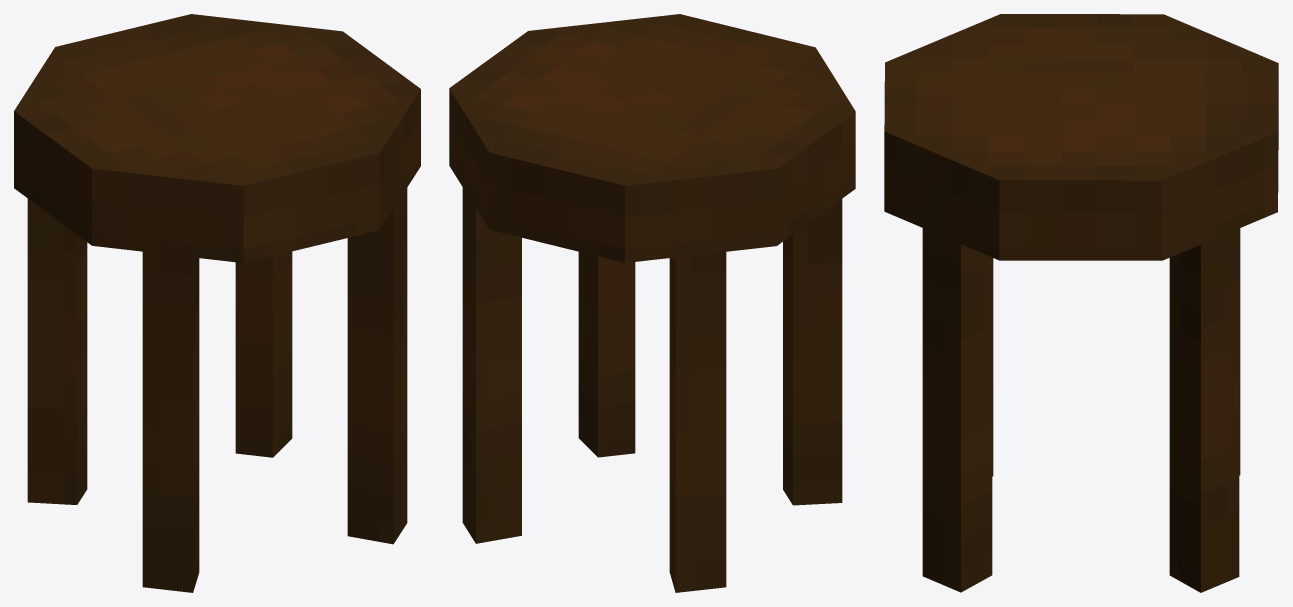
The model's file is BanquinhoZefir.fbx.
3 views of the same model, side by side, from view 1: azimuth 30°, elevation 25°; view 2: azimuth 150°, elevation 25°; view 3: azimuth 270°, elevation 25° (orthographic). The views are drawn at different scales.
Parts seen in each view (by area): view 1: Cylinder.112; view 2: Cylinder.112; view 3: Cylinder.112.
Boxes of the visible parts, <box> form: Cylinder.112: <box>14,14,420,592</box>; Cylinder.112: <box>449,14,855,592</box>; Cylinder.112: <box>884,14,1278,592</box>.
Bounding box in the file's own units: 67.87 × 81.45 × 67.87.
Materials: 1 (1 with a texture image).
